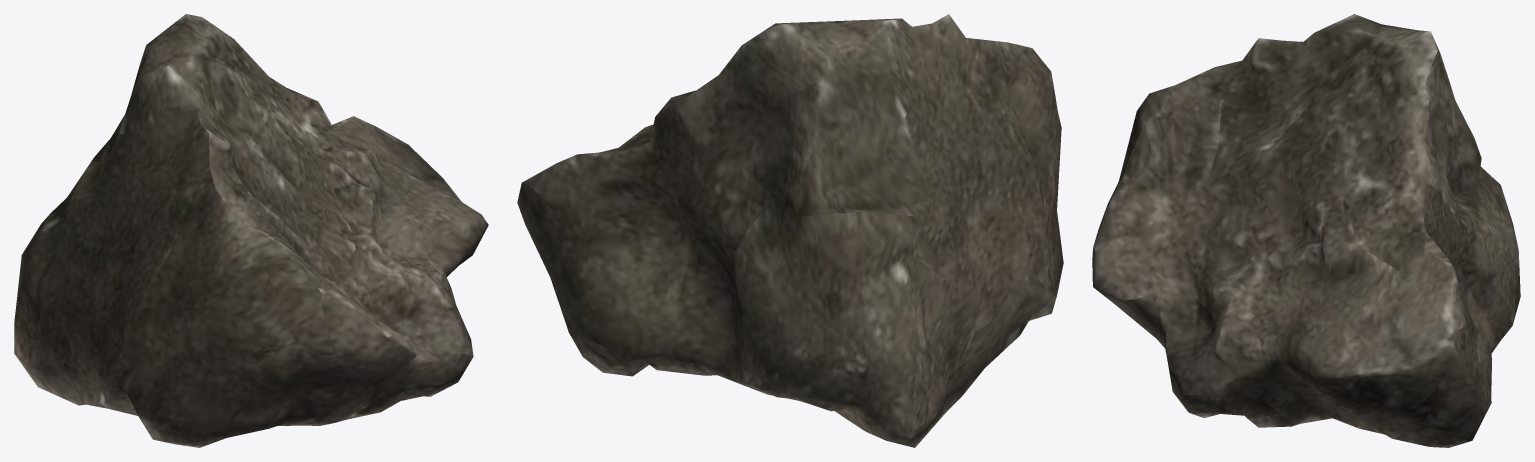
The model's file is rock_d-5uDNWpto.glb.
The picture shows the model from 3 angles, left to right: view 1: azimuth 30°, elevation 25°; view 2: azimuth 150°, elevation 25°; view 3: azimuth 270°, elevation 25°; orthographic projection. The views are drawn at different scales.
Parts seen in each view (by area): view 1: rock_d; view 2: rock_d; view 3: rock_d.
Boxes of the visible parts, x1,y1,x2,y2 form: rock_d: (14, 14, 488, 447); rock_d: (517, 14, 1063, 447); rock_d: (1092, 14, 1520, 447).
Bounding box in the file's own units: 1.2 × 0.9929 × 1.1.
1 material, 1 textured.
